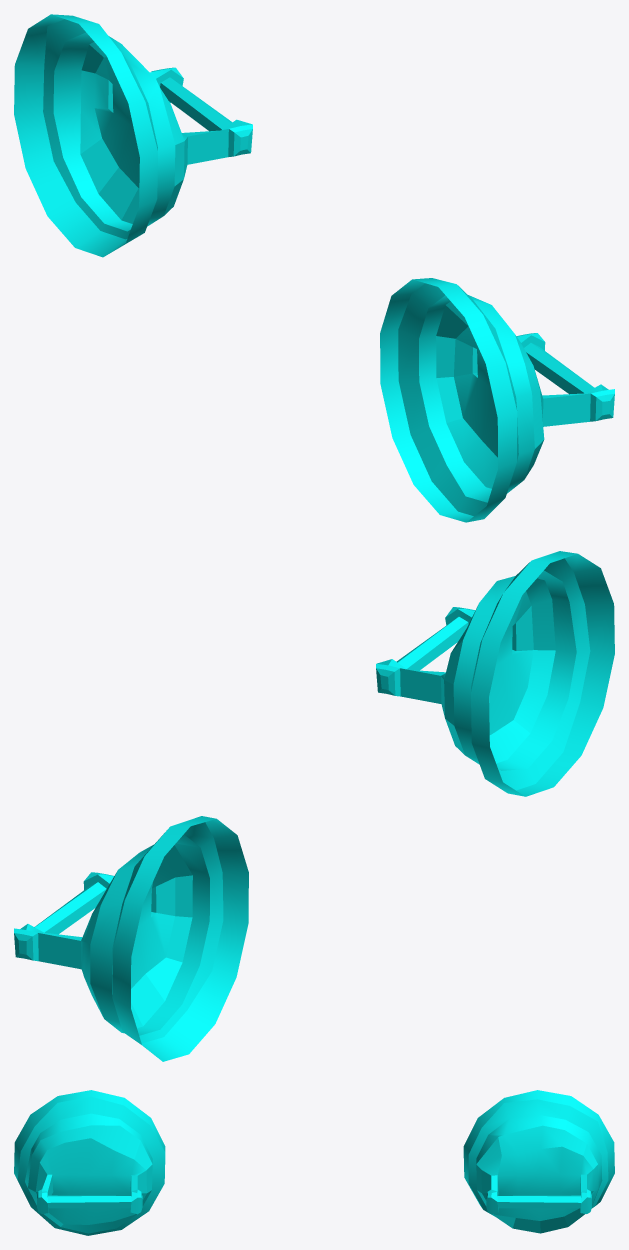
File: accroche_poignee.fbx
The picture shows the model from 3 angles, top to bottom: view 1: azimuth 30°, elevation 25°; view 2: azimuth 150°, elevation 25°; view 3: azimuth 270°, elevation 25°; orthographic projection. The views are drawn at different scales.
Parts seen in each view (by area): view 1: Kit1:KitCommunV6:AccrochePoignee1; view 2: Kit1:KitCommunV6:AccrochePoignee1; view 3: Kit1:KitCommunV6:AccrochePoignee1.
Boxes of the visible parts, x1,y1,x2,y2 form: Kit1:KitCommunV6:AccrochePoignee1: (14, 14, 614, 522); Kit1:KitCommunV6:AccrochePoignee1: (14, 551, 614, 1061); Kit1:KitCommunV6:AccrochePoignee1: (14, 1090, 614, 1235).
Bounding box in the file's own units: 10.26 × 15.59 × 60.33.
